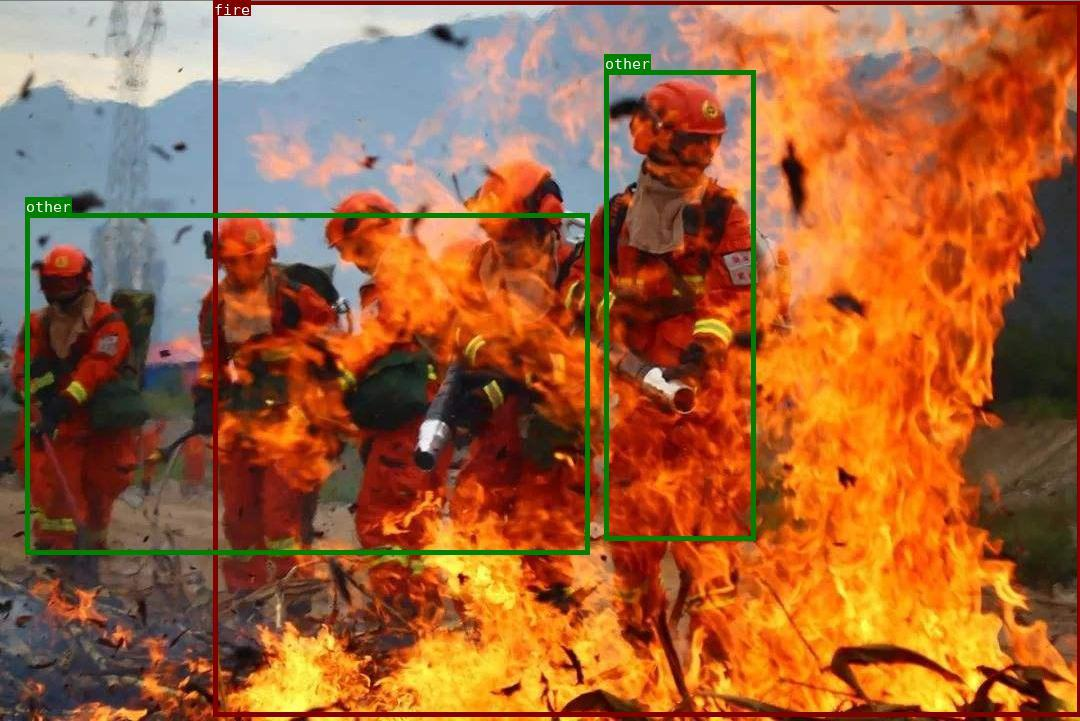fire: (212, 0, 1080, 715)
other: (25, 213, 588, 555), (604, 70, 754, 540)
